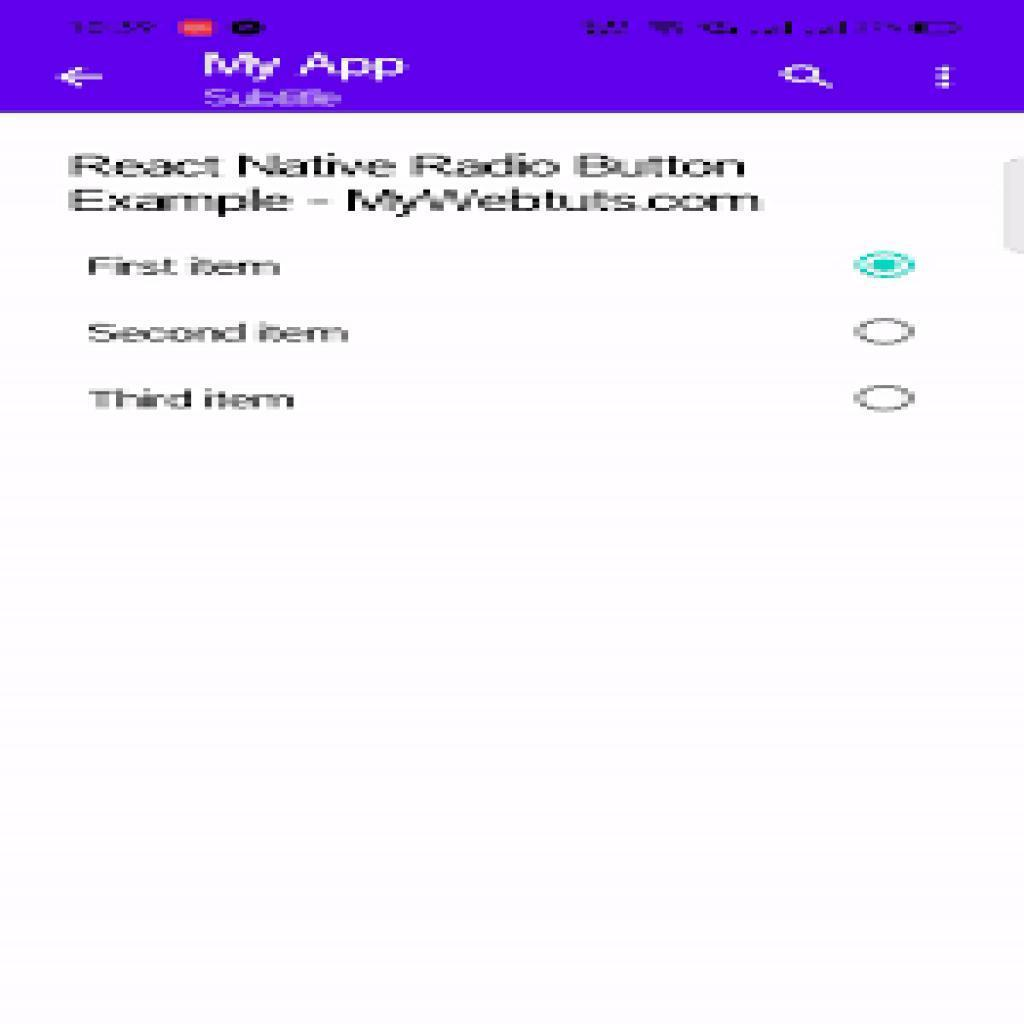radio: (855, 316, 919, 349), (855, 382, 921, 413), (855, 248, 918, 280)
